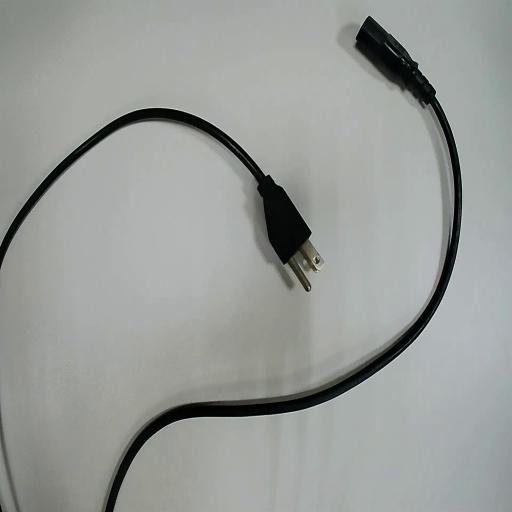wire: (105, 18, 460, 511), (0, 109, 309, 289)
